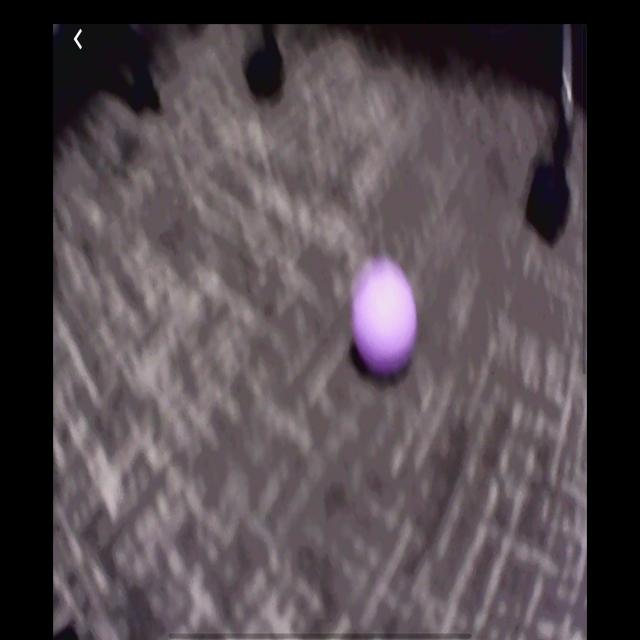ball: (353, 263, 418, 372)
